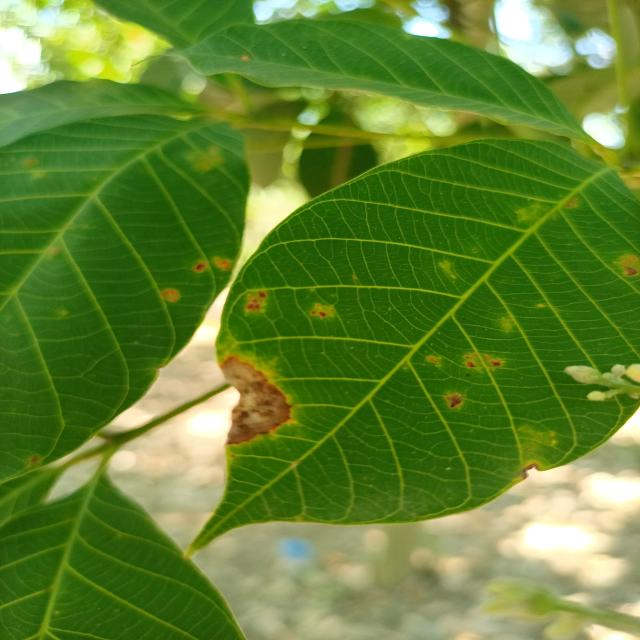Leaf-Blight: (219, 356, 291, 444)
